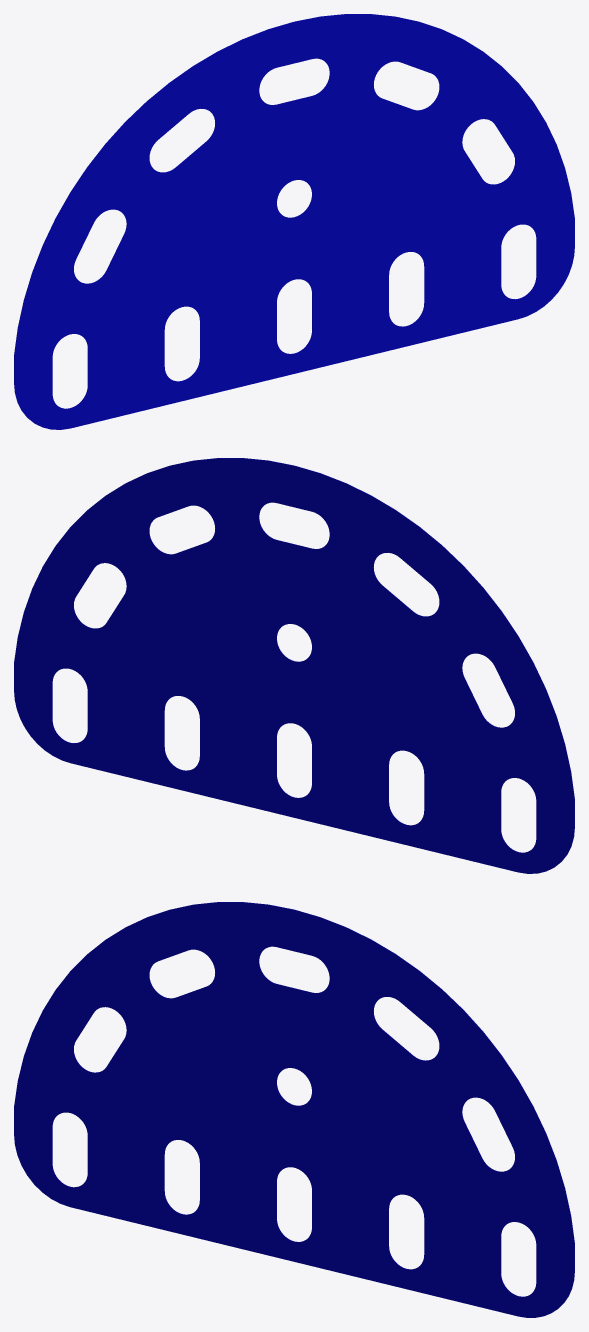
File: NuaCau_NhuaMem_XanhDuong.glb
3 views of the same model, one above another, from view 1: azimuth 30°, elevation 25°; view 2: azimuth 150°, elevation 25°; view 3: azimuth 330°, elevation 25° (orthographic).
Visible parts, largest first — view 1: defaultobject; view 2: defaultobject; view 3: defaultobject.
Part boxes in pixels (bbox=[...]): defaultobject: bbox=[14, 14, 574, 429]; defaultobject: bbox=[14, 458, 574, 873]; defaultobject: bbox=[14, 902, 574, 1317].
Size of the model in its own units: 158 by 94.87 by 0.126.
